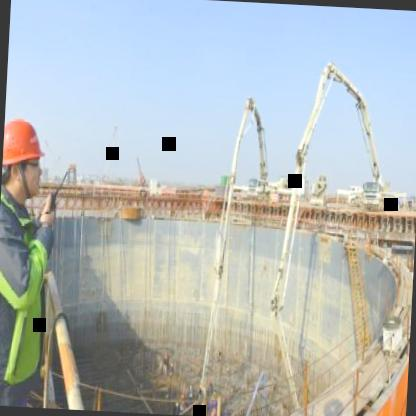helmet: (0, 109, 50, 209)
